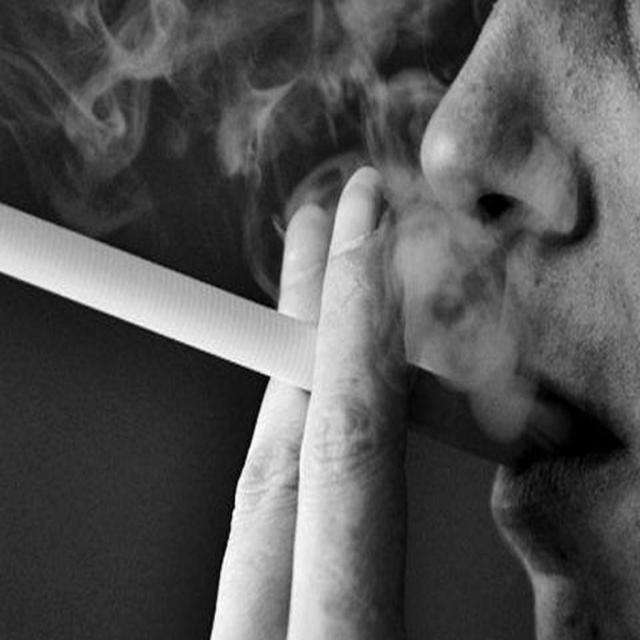smoking: (0, 79, 619, 490)
